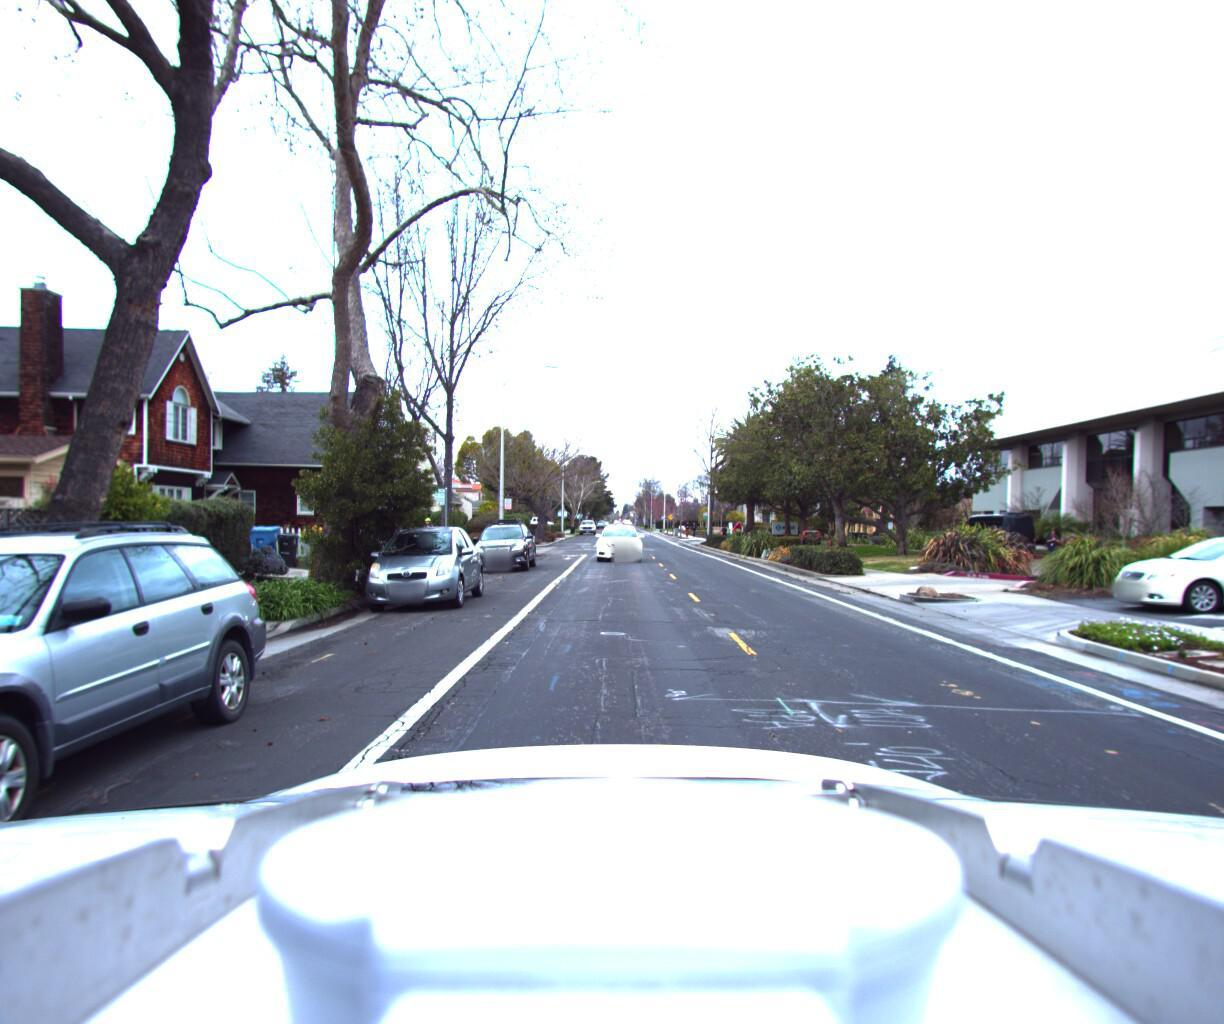bicycle: (413, 523, 447, 570)
car: (0, 510, 284, 978), (358, 531, 491, 622), (1088, 535, 1224, 623), (0, 482, 70, 614), (946, 517, 1036, 571), (466, 523, 539, 582), (0, 507, 25, 630), (587, 530, 646, 574)
